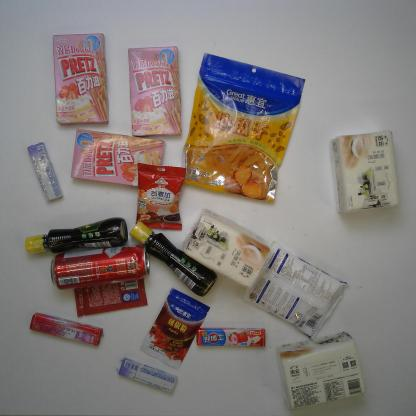Alcohol: (49, 244, 151, 291)
Candy: (27, 311, 106, 347), (117, 355, 177, 397), (27, 140, 63, 202), (193, 326, 269, 351)
Dessert: (70, 128, 167, 189), (52, 31, 110, 127), (126, 45, 184, 138)
Dried Fruit: (180, 52, 307, 204)
Instant Drink: (133, 161, 188, 231)
Seasoner: (243, 240, 348, 340), (128, 217, 219, 298), (138, 287, 211, 371), (23, 214, 130, 254), (73, 278, 149, 318)
Tissue: (276, 330, 366, 412), (181, 208, 270, 289), (331, 130, 400, 215)
